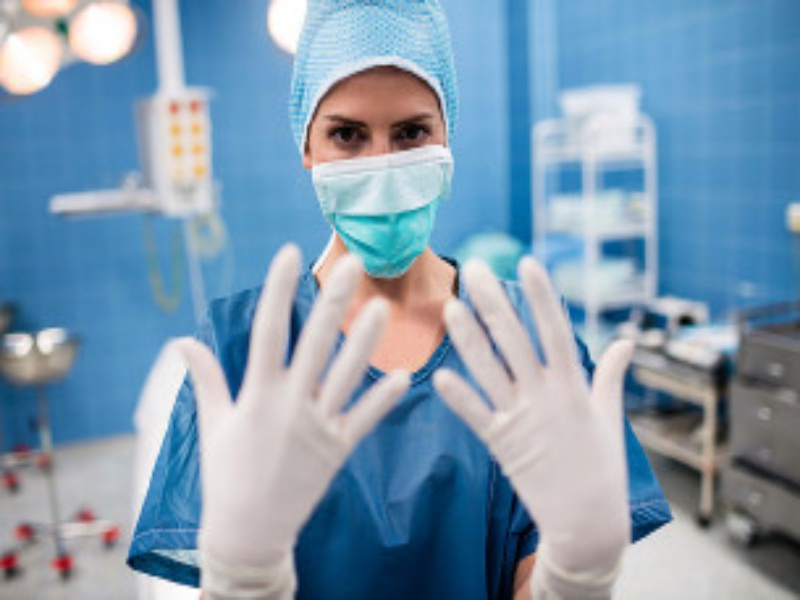mask: (294, 2, 459, 272)
